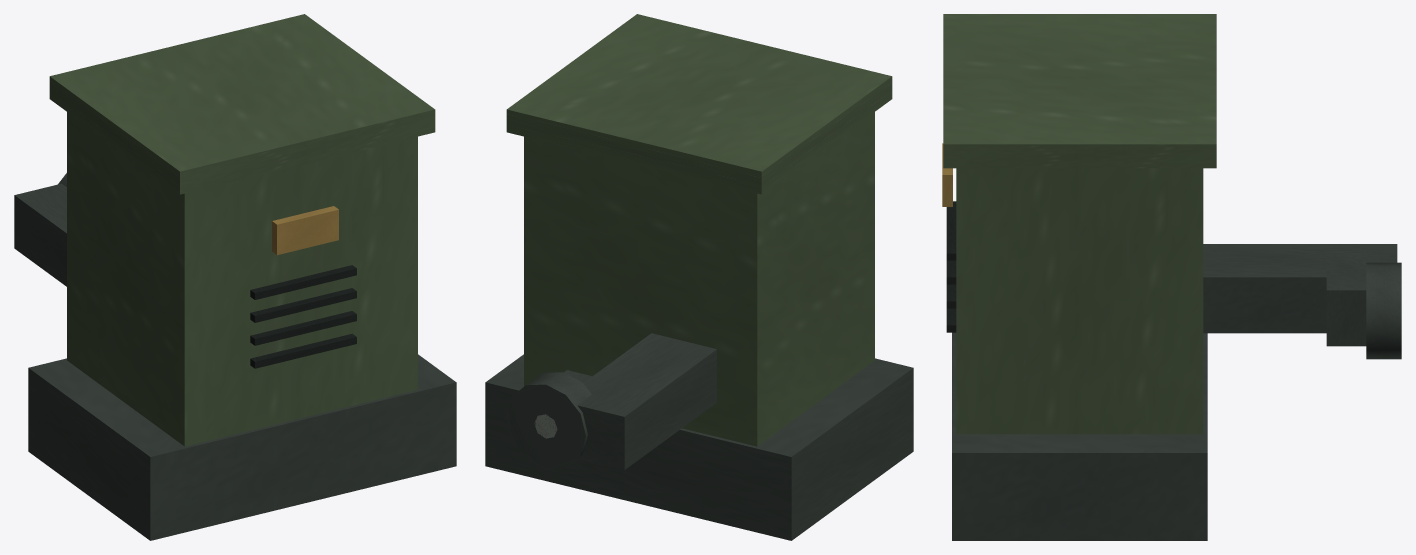
File: SG_Drive.glb
The picture shows the model from 3 angles, left to right: view 1: azimuth 30°, elevation 25°; view 2: azimuth 150°, elevation 25°; view 3: azimuth 270°, elevation 25°; orthographic projection. The views are drawn at different scales.
Visible parts, largest first — view 1: SG_Drive; view 2: SG_Drive; view 3: SG_Drive.
Boxes of the visible parts, left/top/right/bottom form: SG_Drive: left=14, top=14, right=456, bottom=540; SG_Drive: left=485, top=14, right=913, bottom=540; SG_Drive: left=942, top=14, right=1401, bottom=540.
Size of the model in its own units: 0.42 by 0.48 by 0.521.
1 material, 1 textured.
